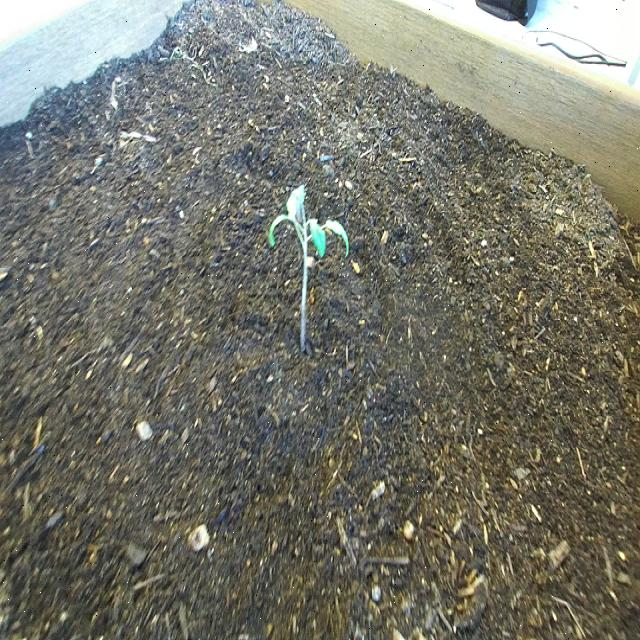Healthy: (265, 177, 353, 361)
